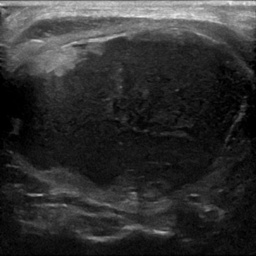mass: (8, 30, 250, 196)
